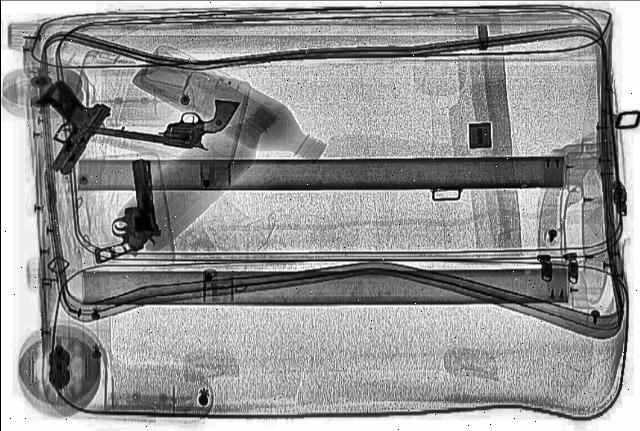Gun: (82, 86, 238, 152), (1, 86, 118, 170), (89, 160, 159, 264)
